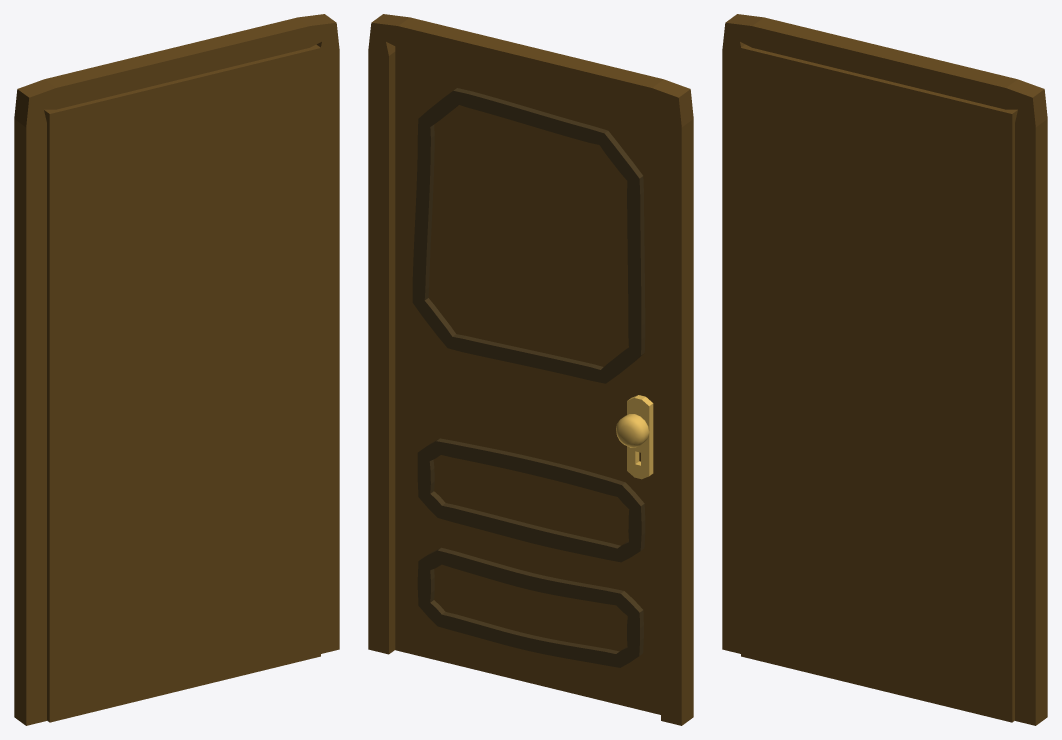
Rendered from Door.glb.
3 views of the same model, side by side, from view 1: azimuth 30°, elevation 25°; view 2: azimuth 150°, elevation 25°; view 3: azimuth 330°, elevation 25° (orthographic).
Parts seen in each view (by area): view 1: Door, Door Cusain; view 2: Door, Door Cusain, Door Decor, Key, Knob; view 3: Door, Door Cusain.
Part boxes in pixels (x1,y1,x2,y2): Door: [44, 44, 320, 722]; Door Cusain: [14, 14, 339, 725]; Door: [395, 46, 663, 714]; Door Cusain: [368, 14, 693, 725]; Door Decor: [412, 88, 645, 667]; Key: [627, 395, 653, 479]; Knob: [616, 414, 649, 447]; Door: [741, 44, 1017, 722]; Door Cusain: [722, 14, 1047, 725].
Bounding box in the file's own units: 1.14 × 2.2 × 0.1509.
